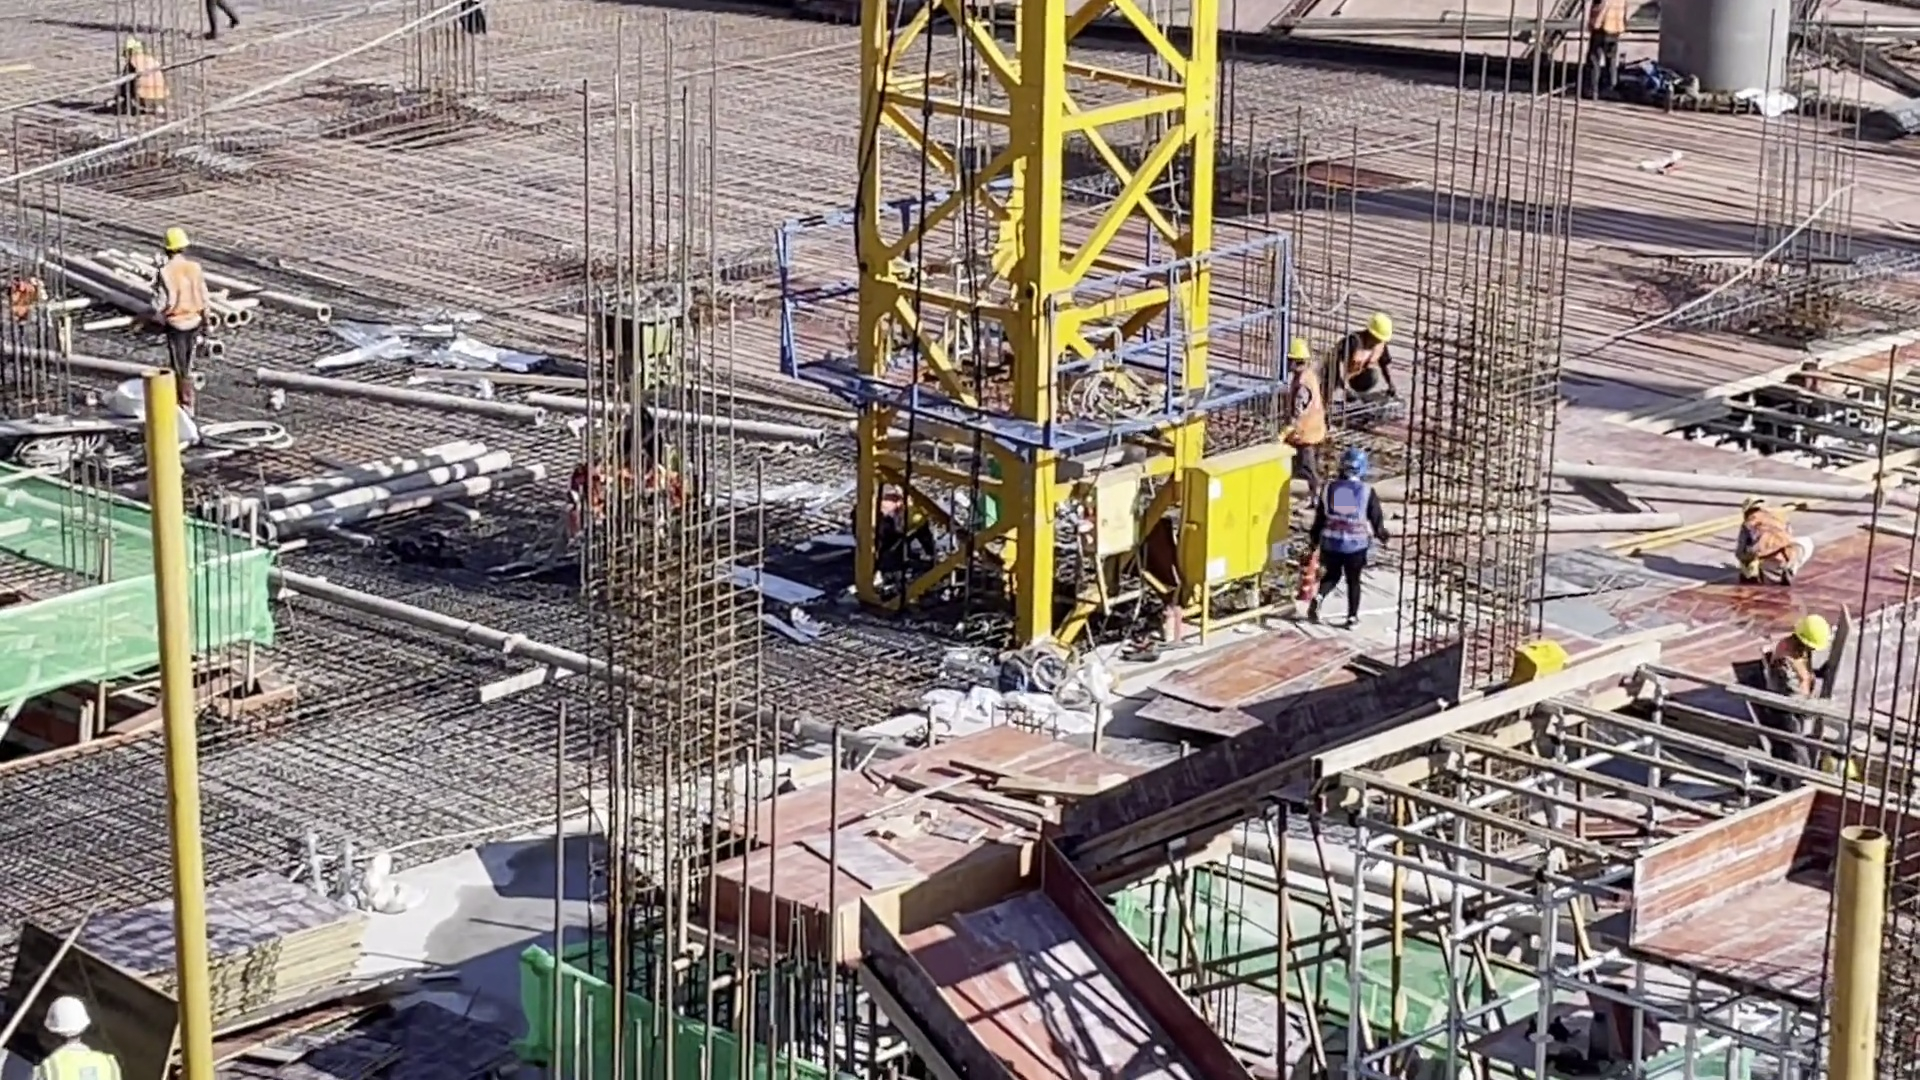helmet: (34, 991, 93, 1031), (1790, 610, 1828, 646), (157, 226, 192, 252), (1364, 317, 1393, 347), (1341, 450, 1368, 477), (1283, 334, 1309, 359)
person: (1318, 446, 1381, 627), (148, 218, 208, 389), (1276, 331, 1328, 501), (26, 997, 131, 1080), (1317, 315, 1396, 418), (1730, 497, 1816, 585), (1760, 601, 1822, 702), (112, 38, 174, 117), (1578, 1, 1622, 108), (197, 1, 242, 45)
vest: (1310, 480, 1374, 570), (156, 256, 204, 330), (1742, 513, 1792, 566), (1286, 375, 1323, 446), (1593, 1, 1628, 36)
